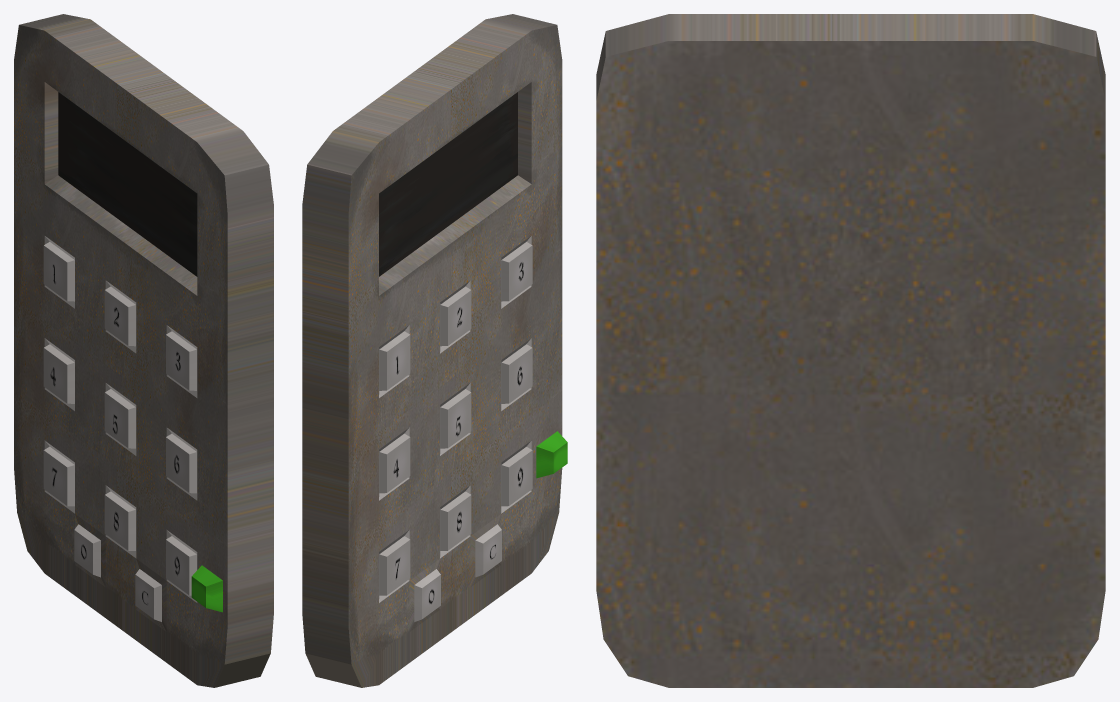
Rendered from Numpad_Modell.FBX.
The picture shows the model from 3 angles, left to right: view 1: azimuth 30°, elevation 25°; view 2: azimuth 150°, elevation 25°; view 3: azimuth 270°, elevation 25°; orthographic projection. The views are drawn at different scales.
Visible parts, largest first — view 1: Numpad; view 2: Numpad; view 3: Numpad.
Part boxes in pixels (x1=…): Numpad: x1=14, y1=14, x2=273, y2=687; Numpad: x1=302, y1=14, x2=567, y2=687; Numpad: x1=596, y1=14, x2=1105, y2=687.
Bounding box in the file's own units: 0.7088 × 6.15 × 4.39.
Materials: 1 (1 with a texture image).
